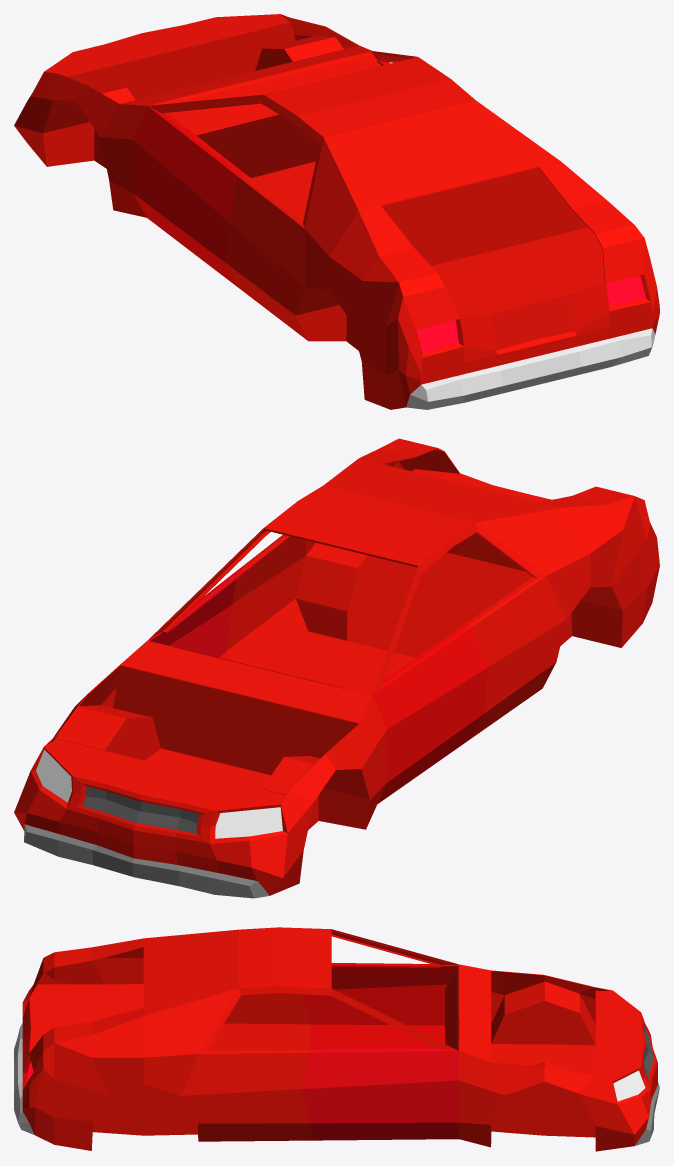
The model's file is carfbx.fbx.
3 renders of one model, top to bottom at view 1: azimuth 30°, elevation 25°; view 2: azimuth 150°, elevation 25°; view 3: azimuth 270°, elevation 25°, orthographic. The views are drawn at different scales.
Visible parts, largest first — view 1: Car, LeftDoor, BackBumper, BackLights; view 2: Car, LeftDoor, FrontBumper, RightDoor, HeadLights; view 3: Car, RightDoor, LeftDoor, BackBumper, HeadLights, FrontBumper.
Boxes of the visible parts, <box> form: Car: <box>14,14,659,409</box>; LeftDoor: <box>133,106,246,287</box>; BackBumper: <box>406,328,655,409</box>; BackLights: <box>416,275,645,353</box>; Car: <box>14,438,659,895</box>; LeftDoor: <box>372,623,488,803</box>; FrontBumper: <box>24,824,269,898</box>; RightDoor: <box>148,569,246,660</box>; HeadLights: <box>36,750,282,838</box>; Car: <box>22,927,657,1151</box>; RightDoor: <box>301,1047,458,1140</box>; LeftDoor: <box>302,963,458,1048</box>; BackBumper: <box>14,1023,34,1134</box>; HeadLights: <box>613,1070,645,1101</box>; FrontBumper: <box>635,1082,659,1145</box>.
Size of the model in its own units: 400 by 271 by 1054.
